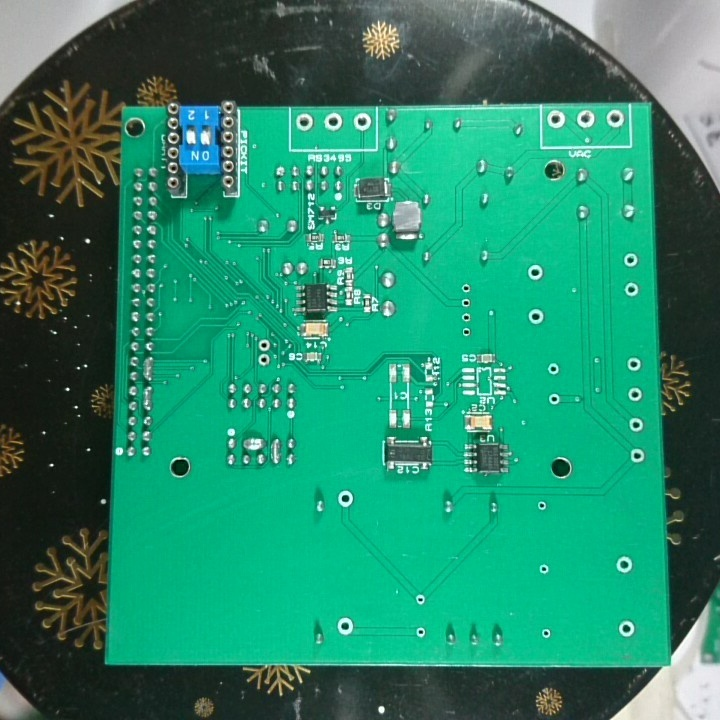F: (574, 108, 597, 132), (603, 108, 627, 131), (294, 110, 315, 134), (322, 111, 344, 133), (334, 615, 355, 638), (545, 109, 568, 130), (616, 618, 639, 639), (525, 306, 546, 327), (352, 110, 372, 132), (614, 554, 634, 575), (619, 250, 639, 270), (526, 262, 545, 283), (336, 489, 355, 508), (625, 385, 645, 403), (625, 353, 642, 374), (629, 447, 647, 466), (412, 591, 430, 609), (627, 415, 645, 433), (255, 352, 274, 369), (623, 280, 640, 298), (254, 337, 274, 352), (414, 623, 430, 641), (547, 391, 563, 408), (546, 360, 560, 379), (538, 626, 554, 642), (535, 562, 551, 578), (534, 498, 549, 513), (459, 295, 474, 310), (458, 311, 473, 325), (459, 281, 473, 295), (459, 326, 475, 338)
P: (139, 382, 155, 414), (239, 435, 267, 452), (268, 436, 283, 466), (140, 355, 156, 382)
